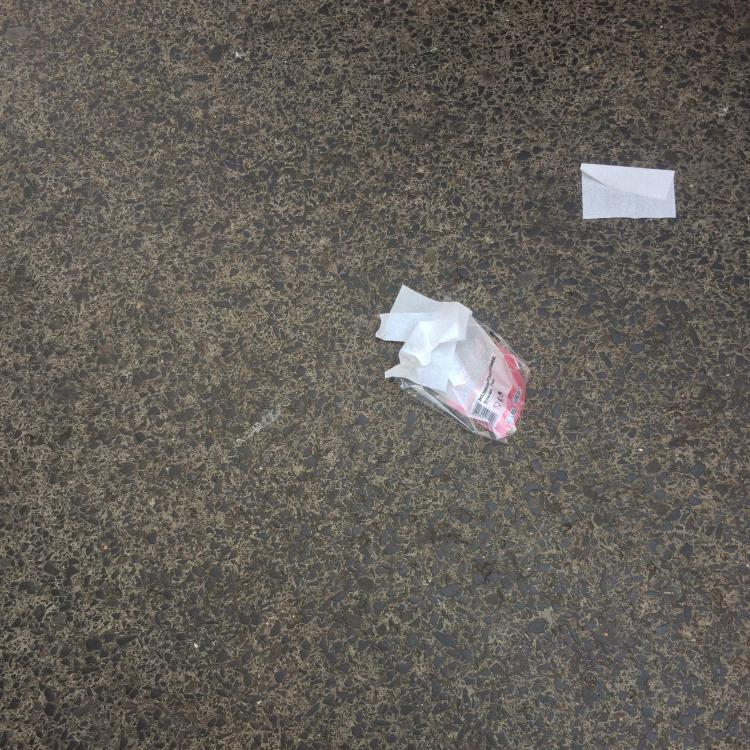Plastic film: (394, 314, 530, 444)
